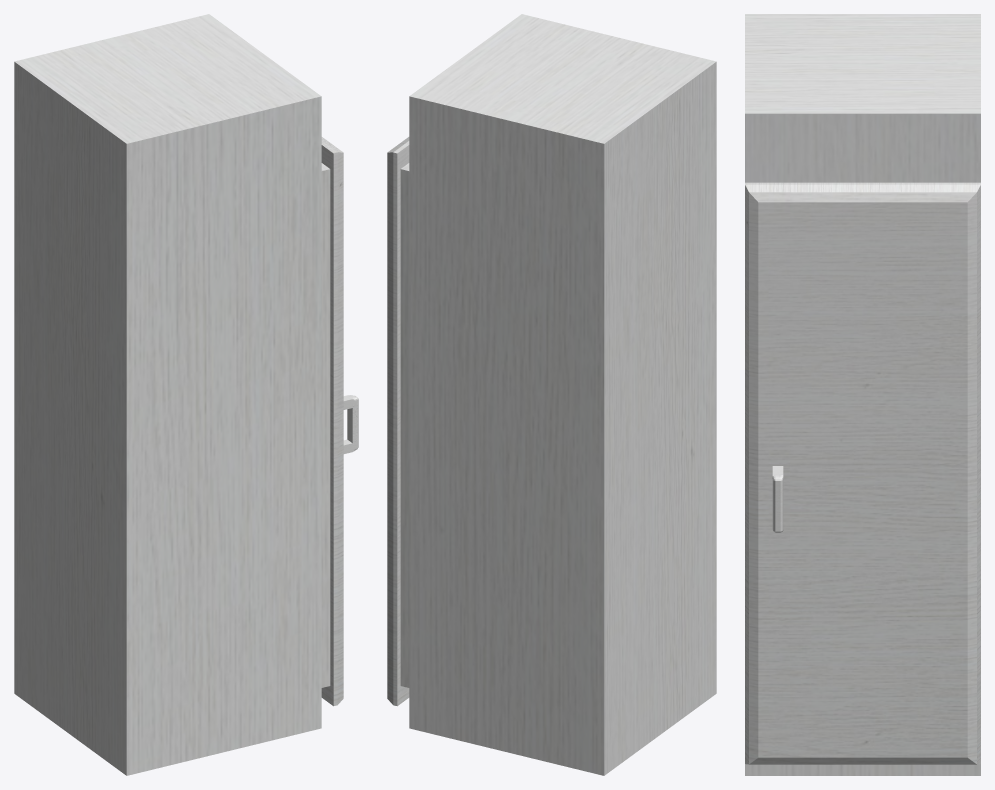
File: FridgeV3.gltf
3 renders of one model, left to right at view 1: azimuth 30°, elevation 25°; view 2: azimuth 150°, elevation 25°; view 3: azimuth 270°, elevation 25°, orthographic. The views are drawn at different scales.
Visible parts, largest first — view 1: Cube, Cube.001; view 2: Cube; view 3: Cube, Cube.001.
Part boxes in pixels (x1,y1,x2,y2): Cube: (14, 14, 343, 775); Cube.001: (343, 395, 358, 453); Cube: (387, 14, 716, 775); Cube: (745, 14, 980, 775); Cube.001: (772, 466, 783, 532).
Bounding box in the file's own units: 0.6322 × 1.55 × 0.5.
2 materials, 2 textured.
